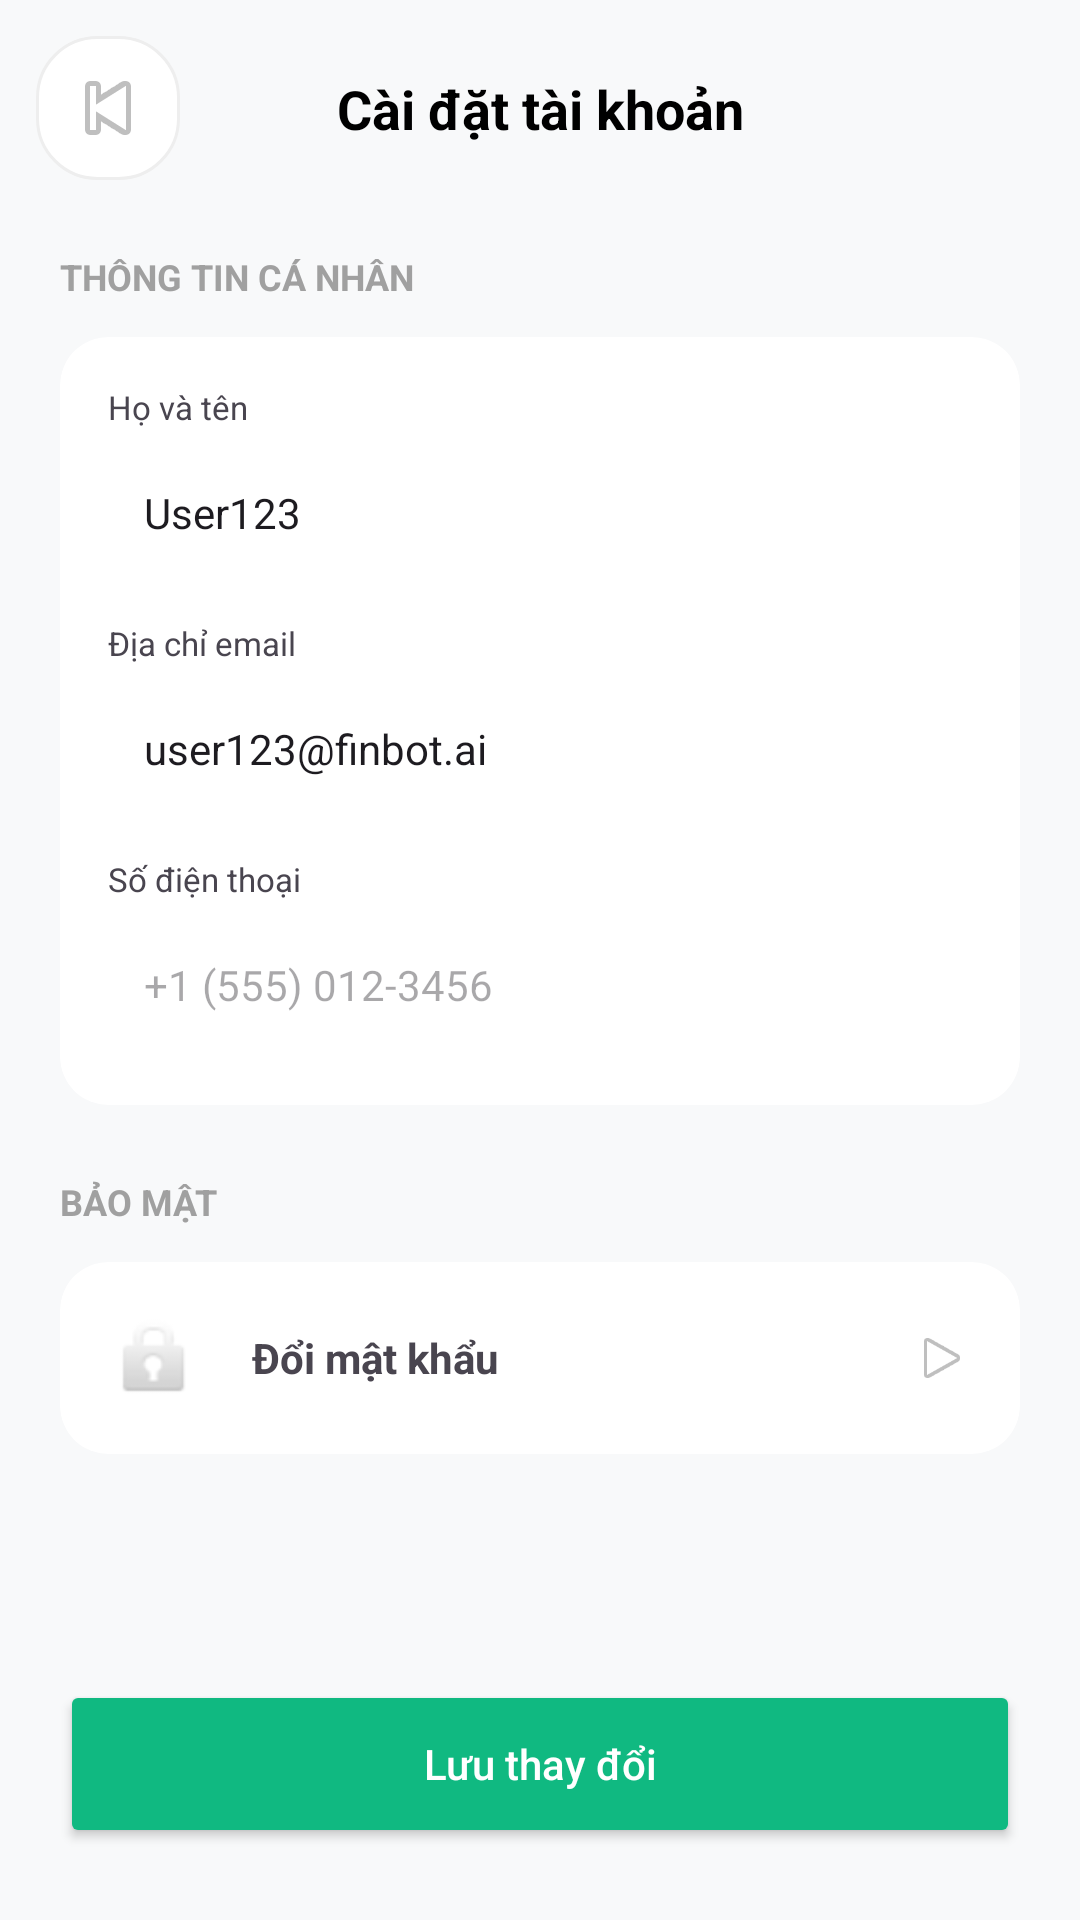

Locate icon controls on the screen. Image size 1080 × 1920, boxes as bbox=[x1, y1, x2, y2].
play: bbox=[924, 1338, 960, 1378]
Quay lại trang trước: bbox=[85, 81, 131, 135]
